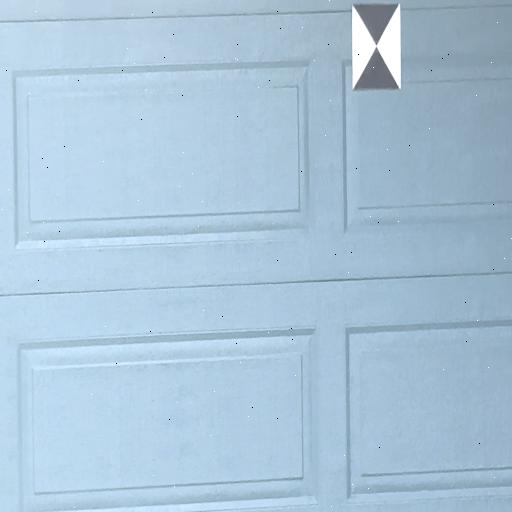target: (352, 5, 402, 91)
